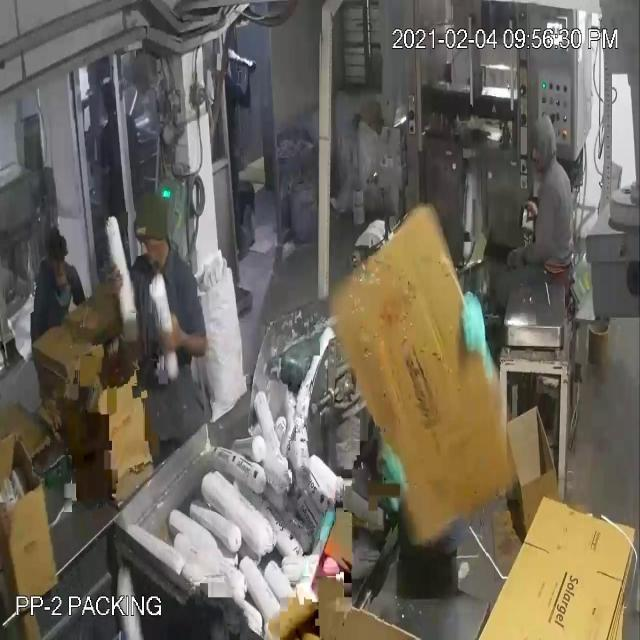No_Gloves: (40, 76, 475, 337)
